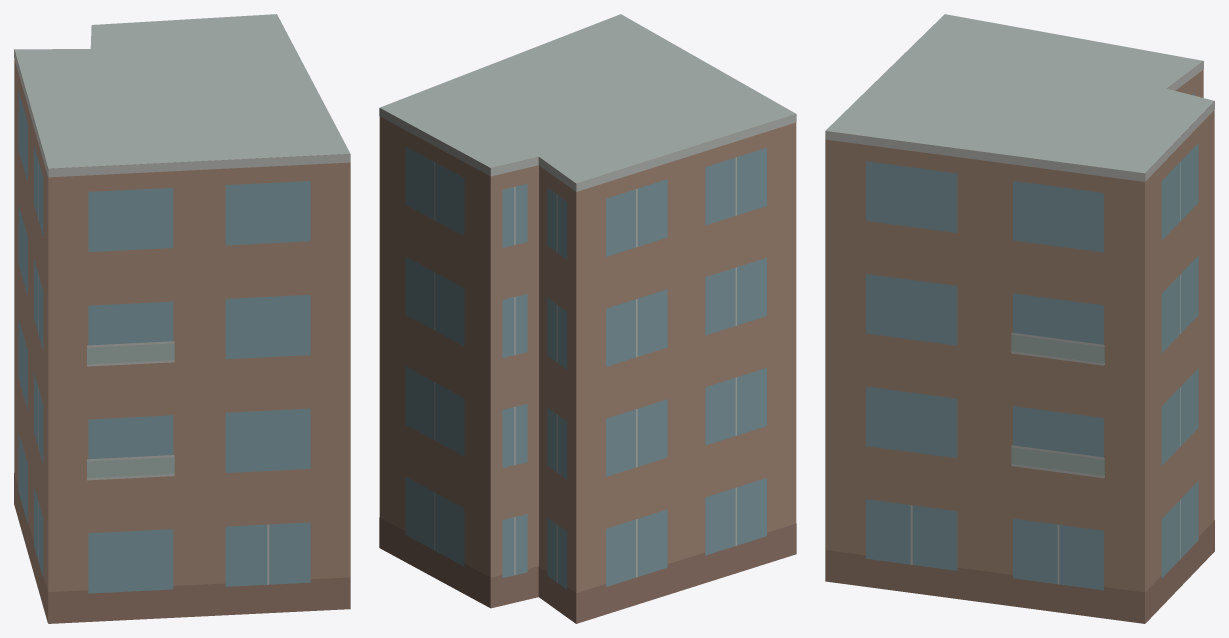
File: survey-upis-32971151.glb
3 views of the same model, side by side, from view 1: azimuth 30°, elevation 25°; view 2: azimuth 150°, elevation 25°; view 3: azimuth 270°, elevation 25° (orthographic). The views are drawn at different scales.
Parts seen in each view (by area): view 1: survey-upis-32971151.tmp; view 2: survey-upis-32971151.tmp; view 3: survey-upis-32971151.tmp.
Boxes of the visible parts, x1,y1,x2,y2 form: survey-upis-32971151.tmp: (14,14,350,623); survey-upis-32971151.tmp: (379,14,796,623); survey-upis-32971151.tmp: (825,14,1214,623).
Size of the model in its own units: 9.64 by 12.7 by 9.96.
